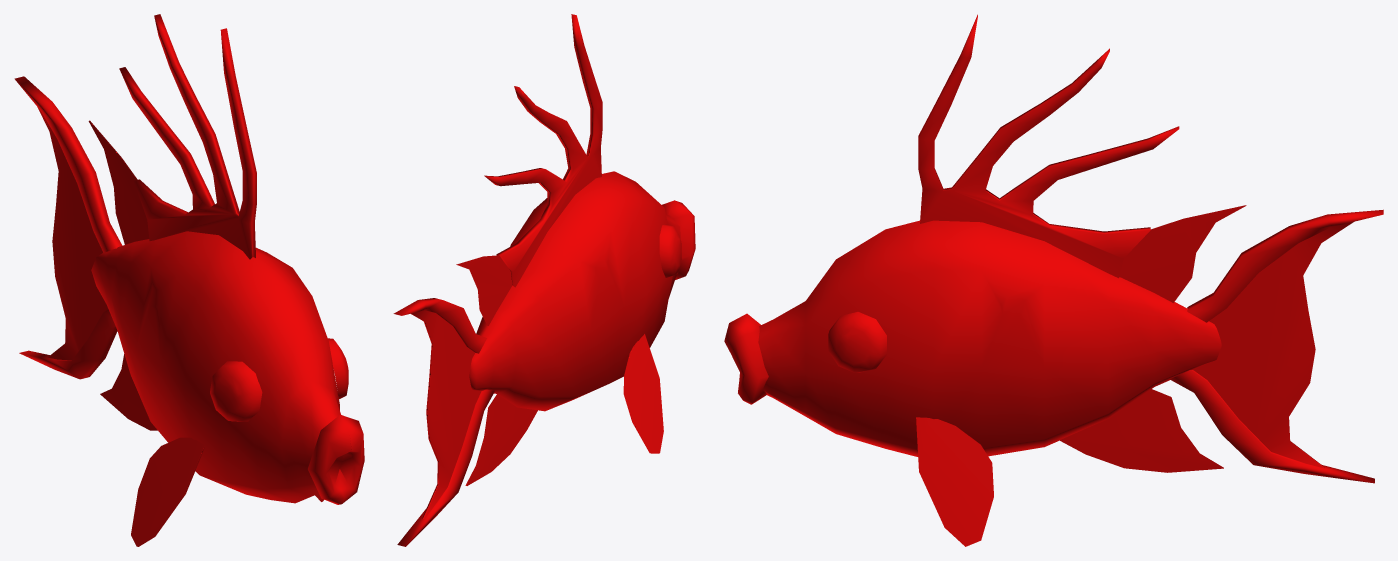
3 renders of one model, left to right at view 1: azimuth 30°, elevation 25°; view 2: azimuth 150°, elevation 25°; view 3: azimuth 270°, elevation 25°, orthographic. The views are drawn at different scales.
Visible parts, largest first — view 1: Fish_HogFish; view 2: Fish_HogFish; view 3: Fish_HogFish.
Part boxes in pixels (x1,y1,x2,y2): Fish_HogFish: (14, 14, 364, 546); Fish_HogFish: (393, 14, 695, 546); Fish_HogFish: (724, 14, 1383, 546).
Bounding box in the file's own units: 0.2116 × 0.5319 × 0.6526.
